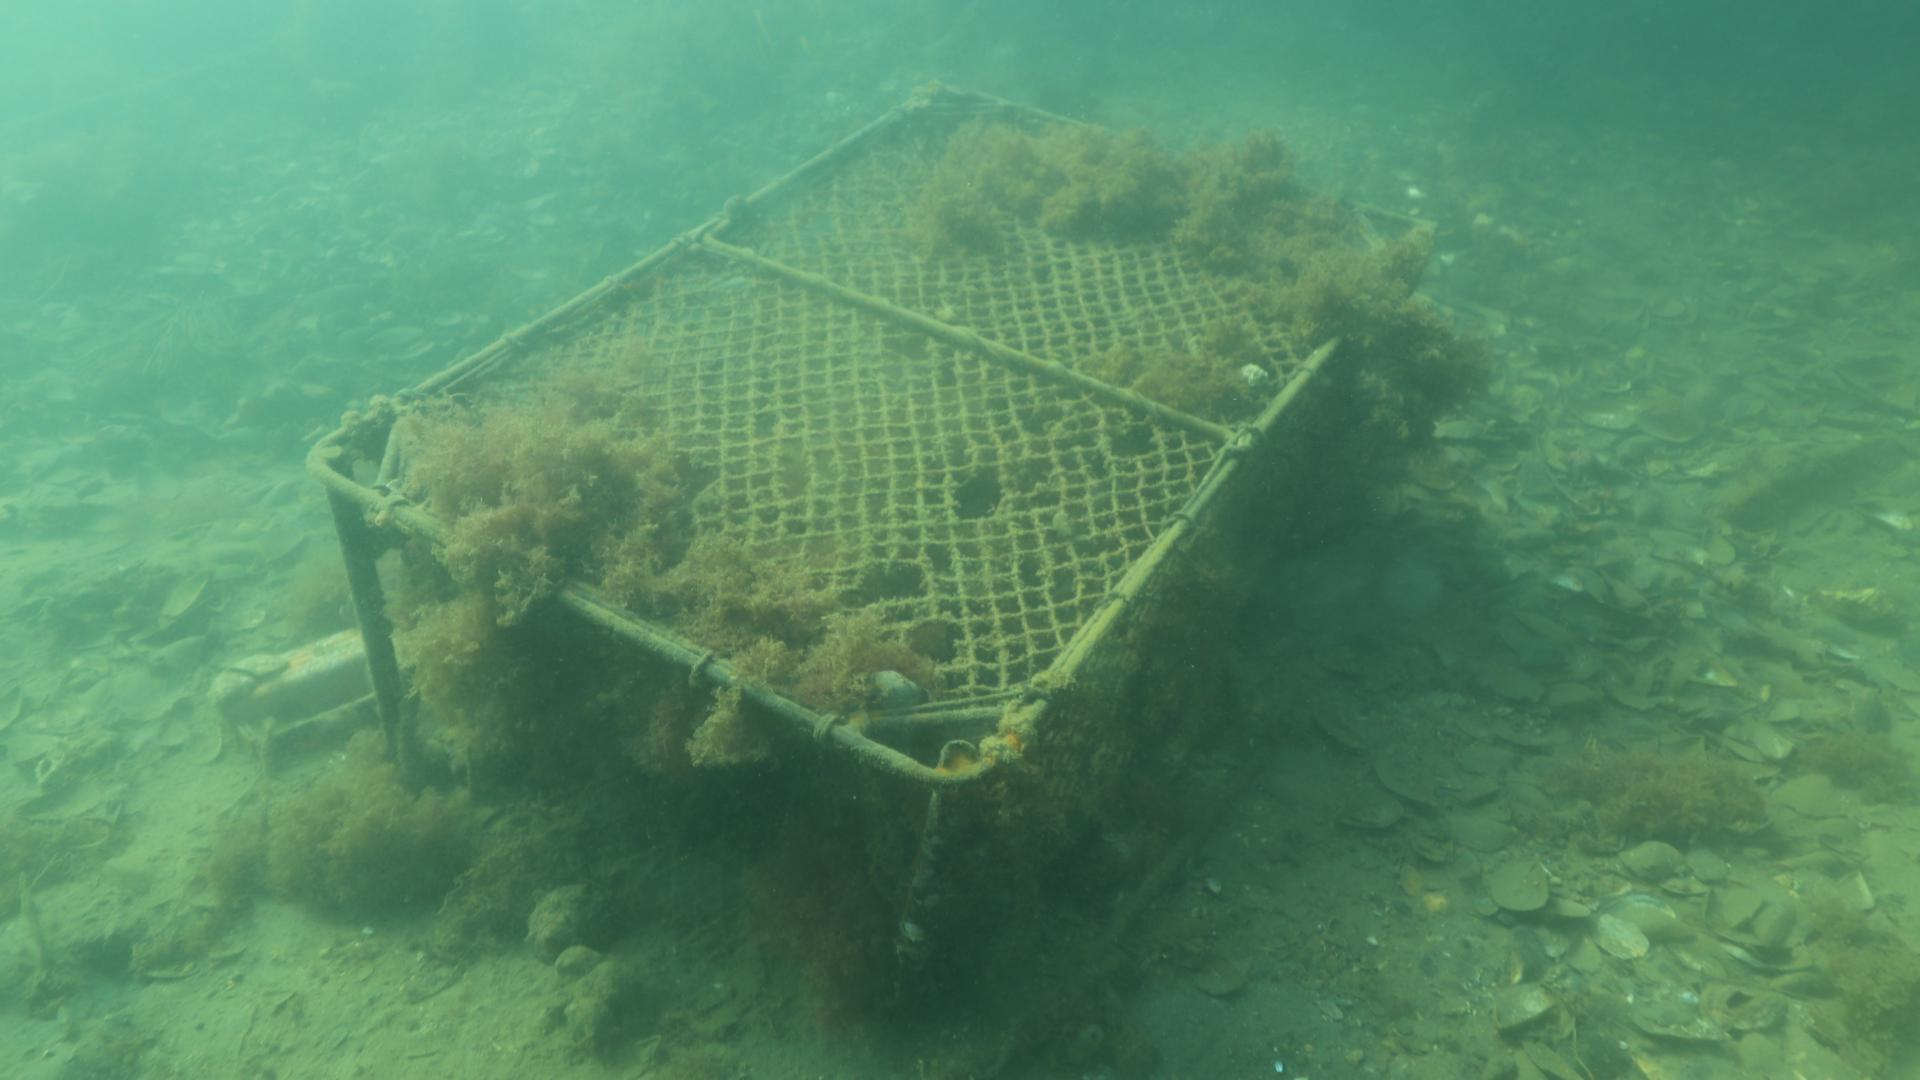rectangular fish trap: (305, 79, 1447, 967)
